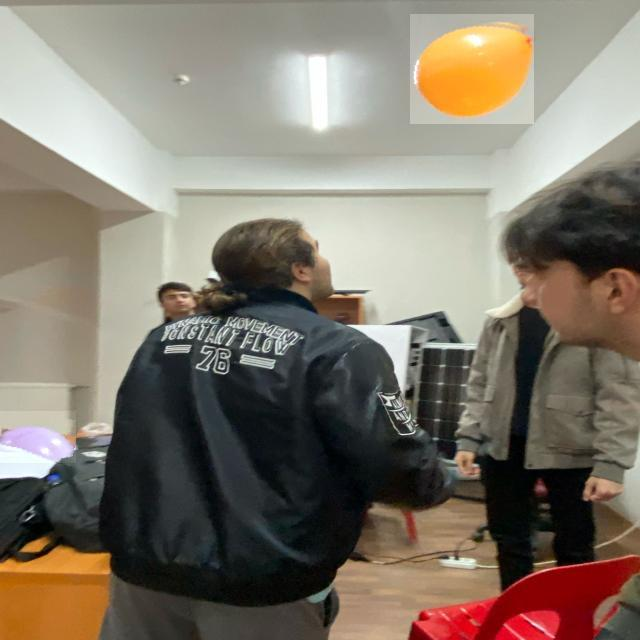balloon: (410, 15, 534, 124), (0, 411, 76, 463)
